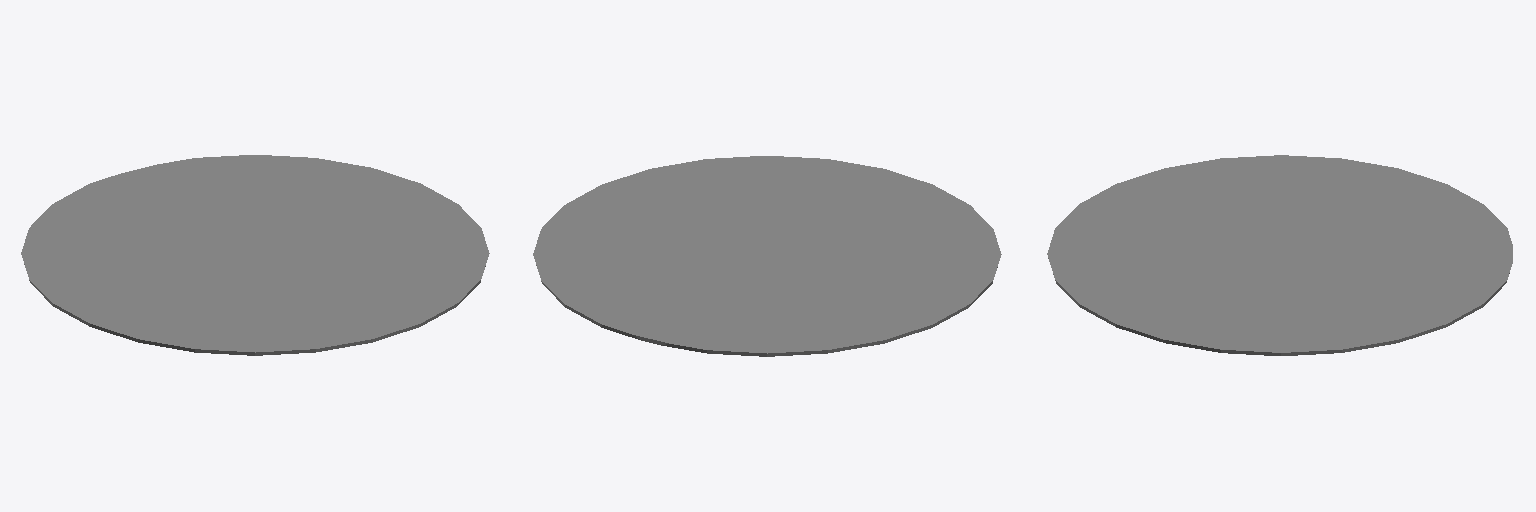
File: alfombra.obj
The picture shows the model from 3 angles: view 1: azimuth 30°, elevation 25°; view 2: azimuth 150°, elevation 25°; view 3: azimuth 270°, elevation 25°; orthographic projection.
Visible parts, largest first — view 1: Box004; view 2: Box004; view 3: Box004.
Part boxes in pixels (left/top/right/bottom): Box004: left=21, top=155, right=489, bottom=355; Box004: left=533, top=156, right=1001, bottom=356; Box004: left=1047, top=155, right=1512, bottom=355.
Size of the model in its own units: 32.52 by 0.3 by 32.33.